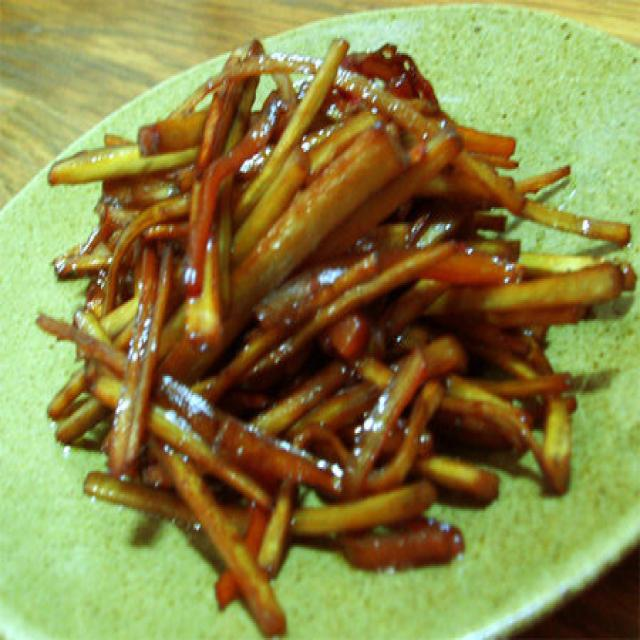蔬菜料理: (24, 26, 640, 640)
